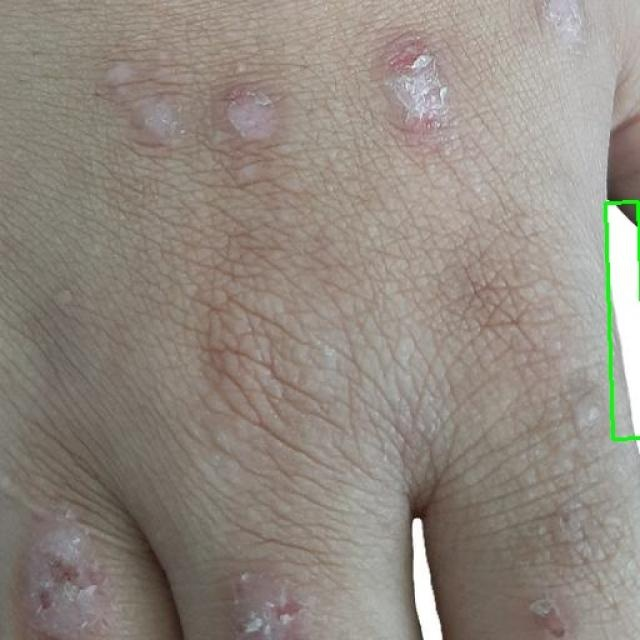Contact Dermatitis: (606, 201, 640, 440)
